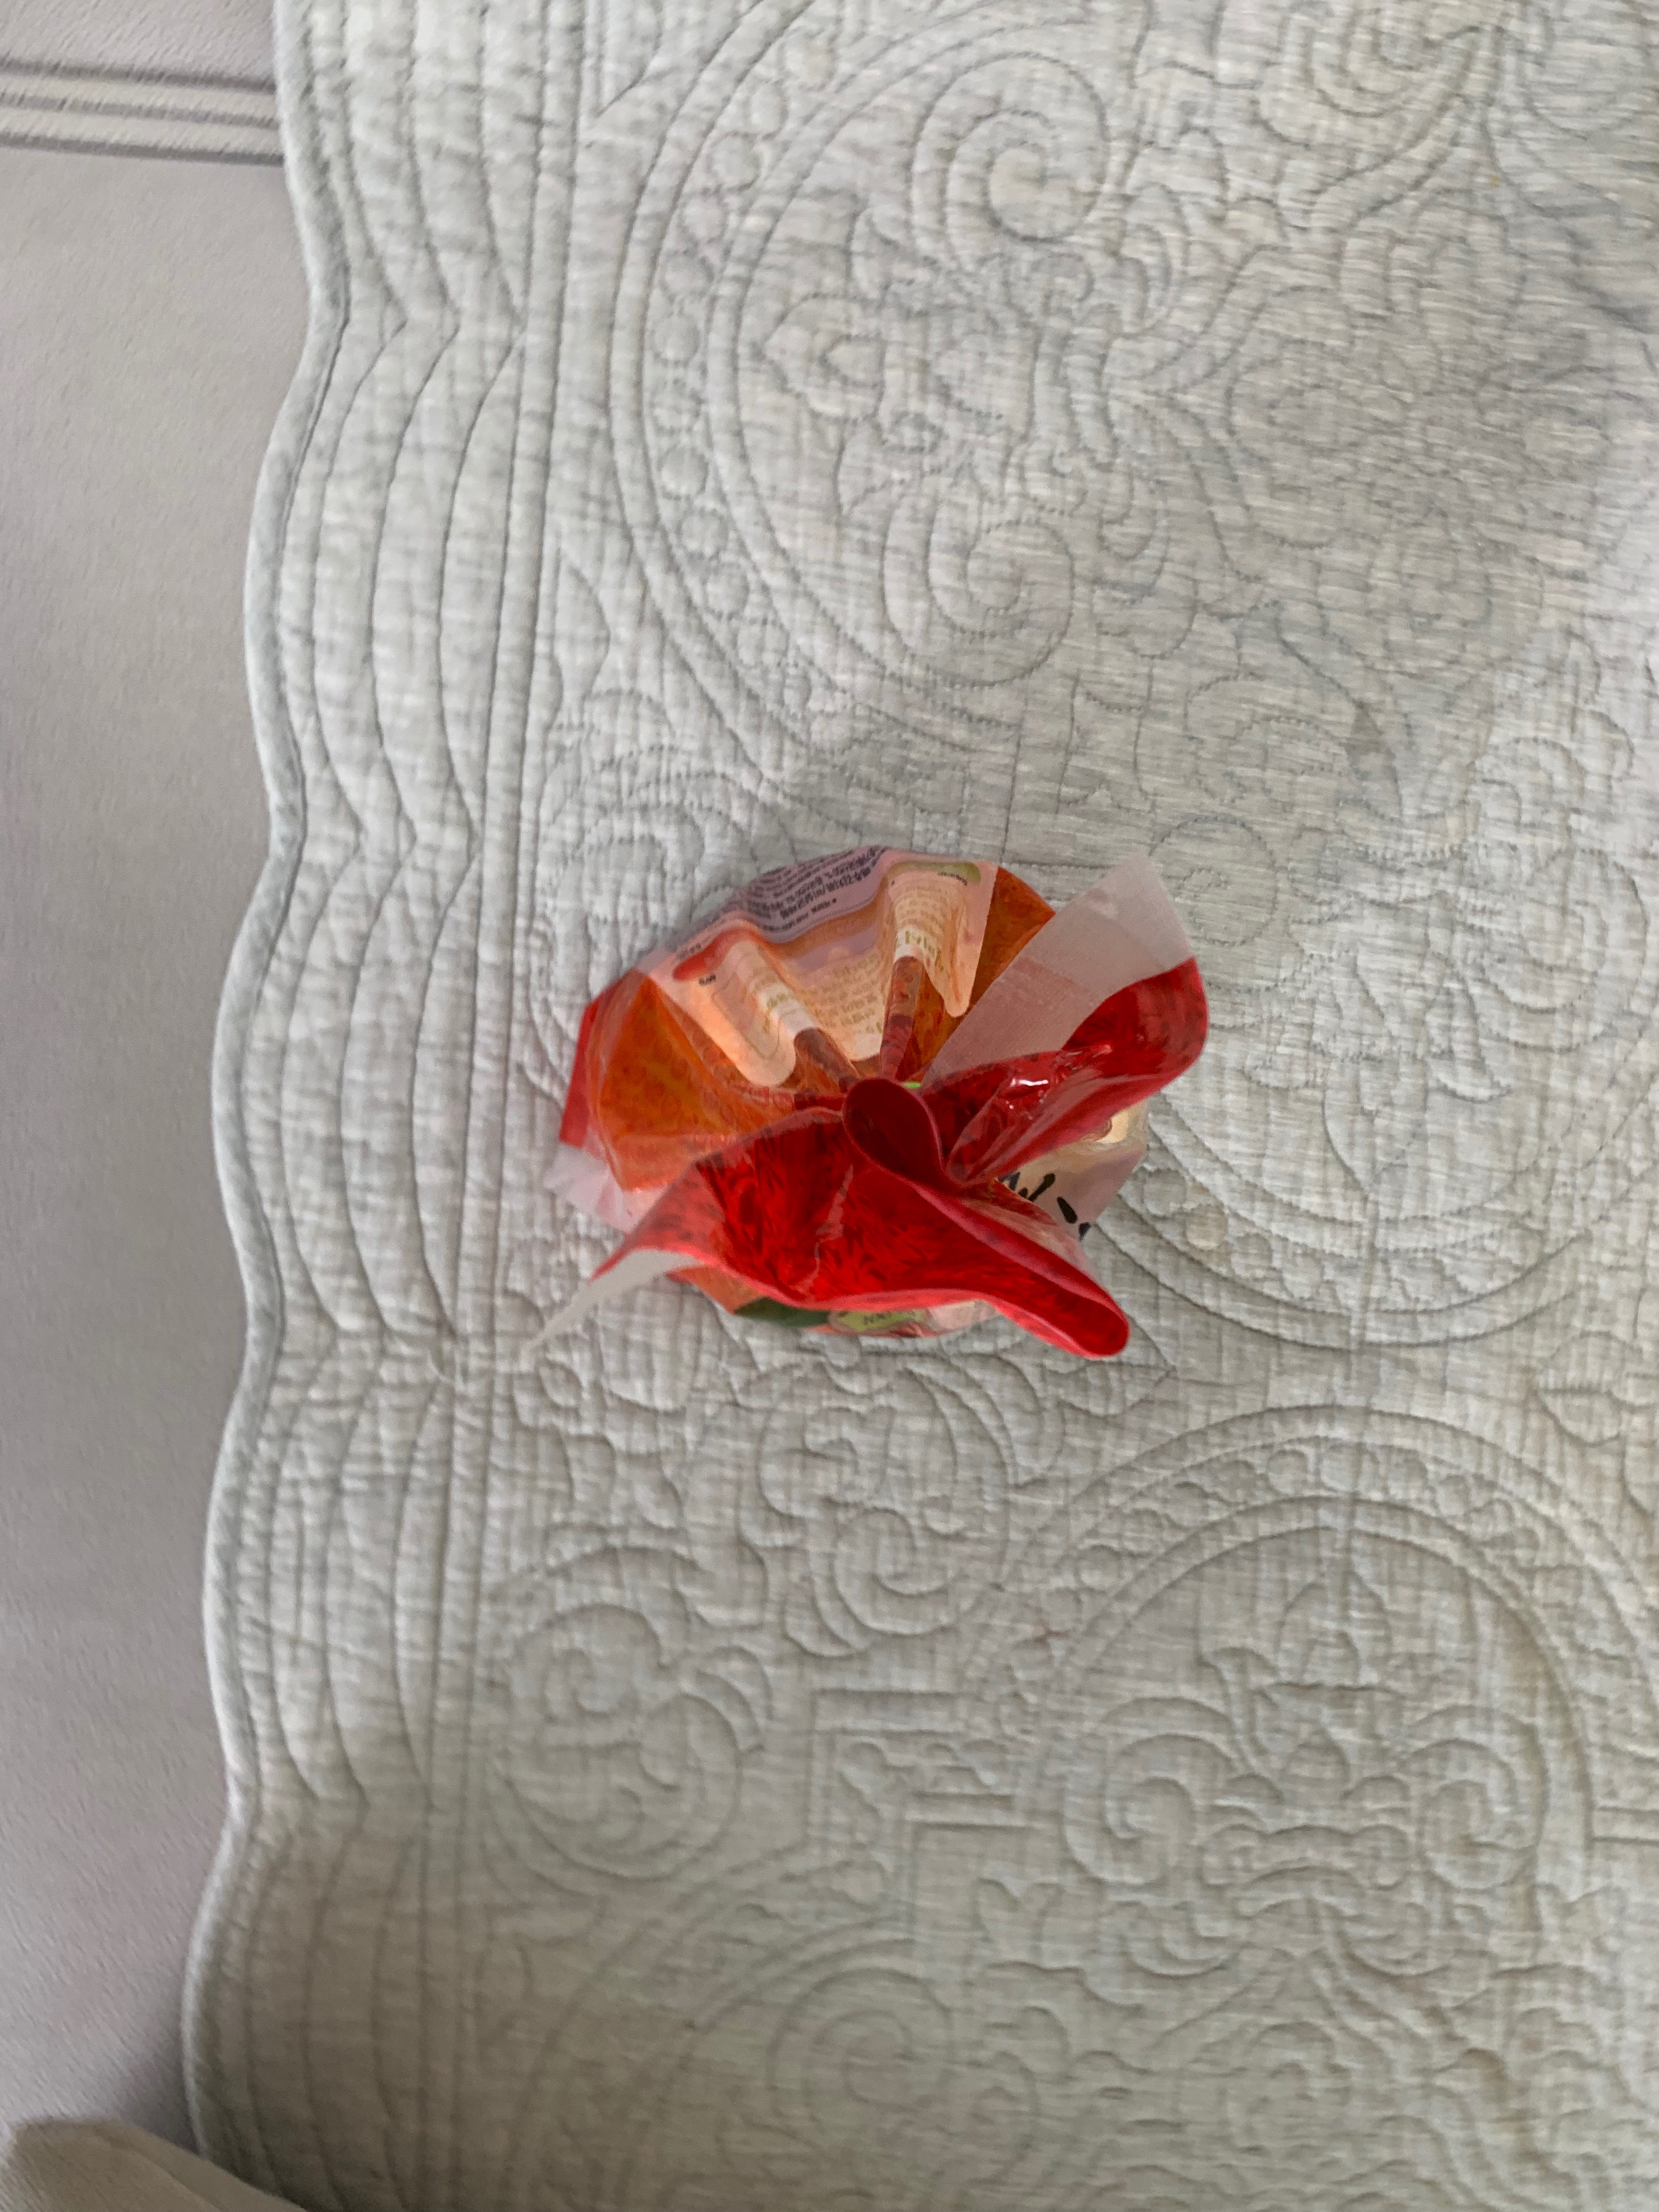kimchi: (563, 845, 1206, 1360)
